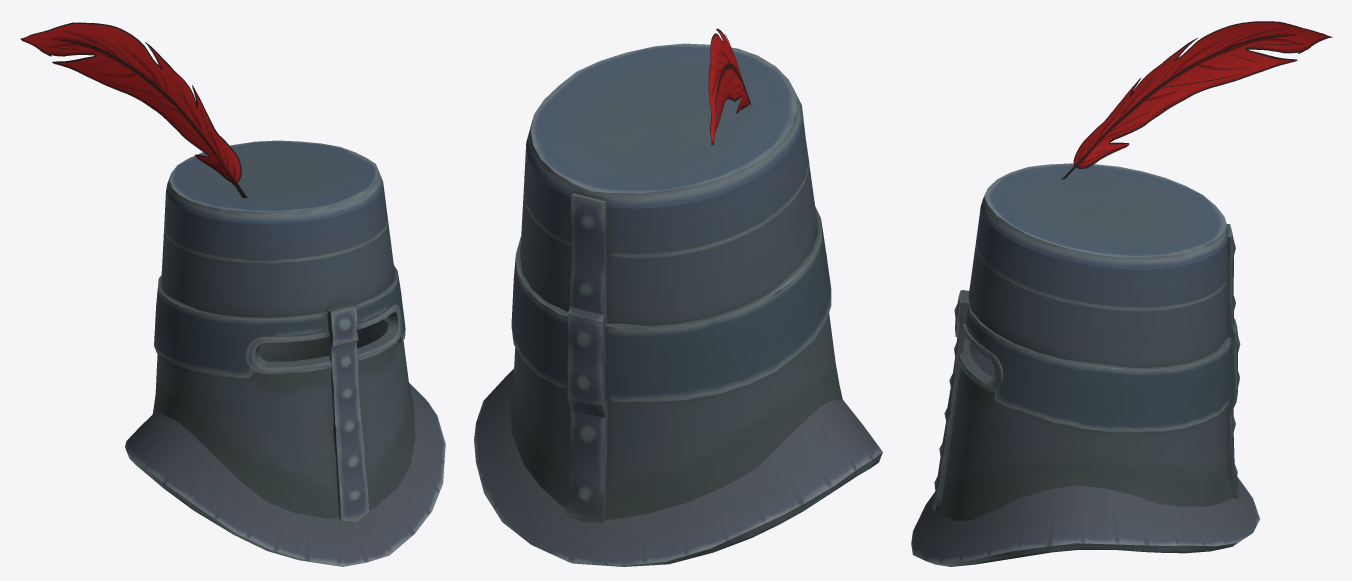
3 views of the same model, side by side, from view 1: azimuth 30°, elevation 25°; view 2: azimuth 150°, elevation 25°; view 3: azimuth 270°, elevation 25° (orthographic). The views are drawn at different scales.
Parts seen in each view (by area): view 1: Plano.006, pluma; view 2: Plano.006, pluma; view 3: Plano.006, pluma.
Boxes of the visible parts, x1=… form: Plano.006: x1=125, y1=140, x2=445, y2=566; pluma: x1=20, y1=22, x2=247, y2=198; Plano.006: x1=474, y1=43, x2=882, y2=566; pluma: x1=708, y1=28, x2=752, y2=145; Plano.006: x1=911, y1=163, x2=1259, y2=566; pluma: x1=1061, y1=21, x2=1332, y2=179.
Bounding box in the file's own units: 1.99 × 2.99 × 2.42.
2 materials, 2 textured.
